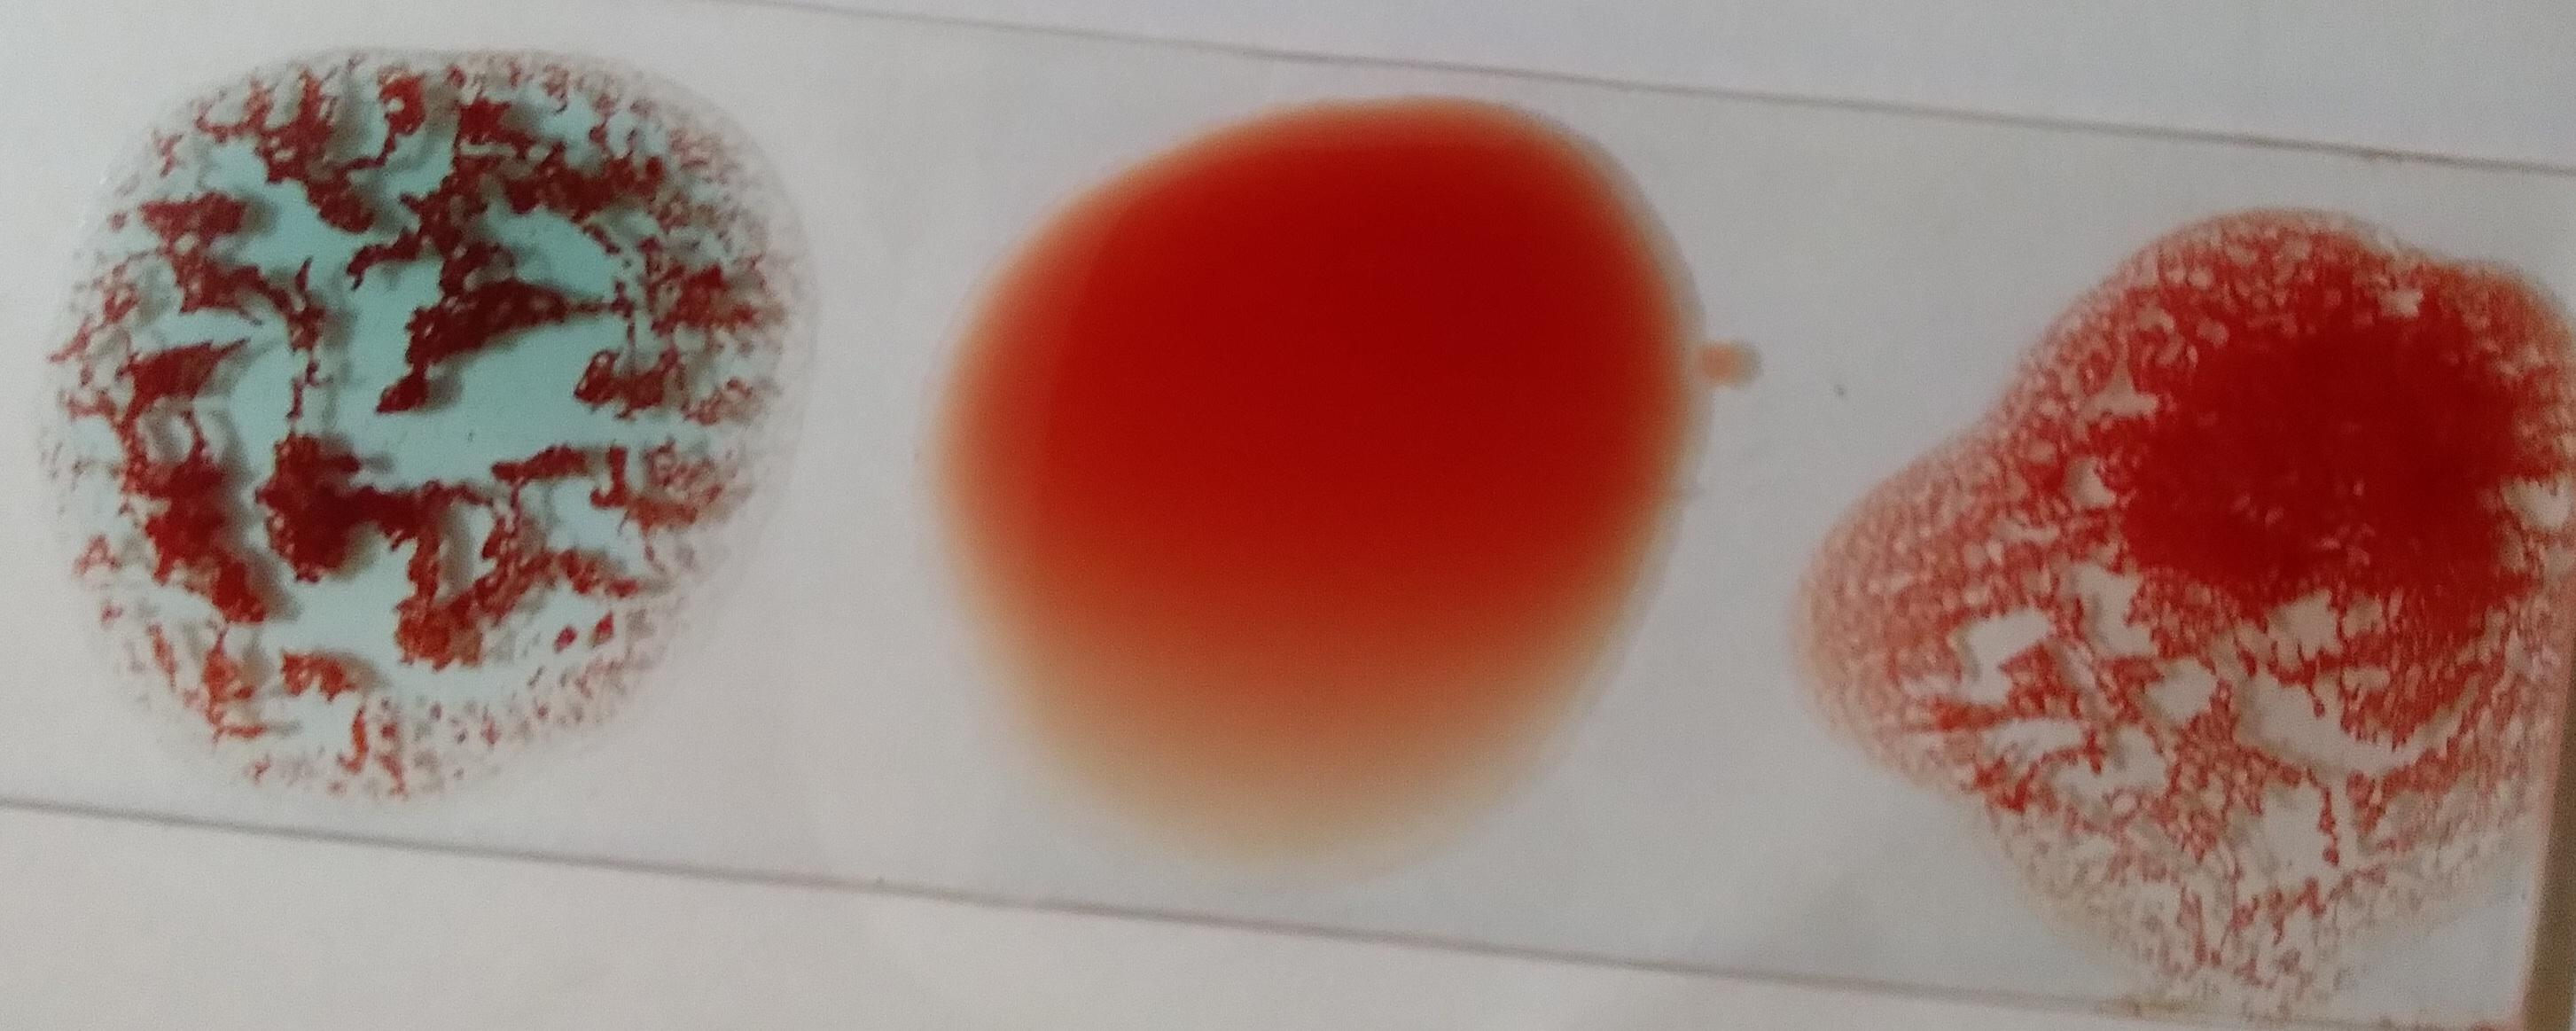A: (74, 54, 757, 777)
D: (1874, 199, 2546, 982)
